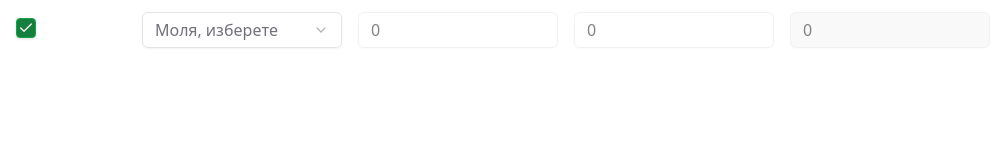
Test case: SeedCombinedRow › displays plant selection dropdown with correct options
The width and height of the screenshot is (1007, 160).
Click the dropdown. click: [242, 30]
box: 142,12 -> 342,48
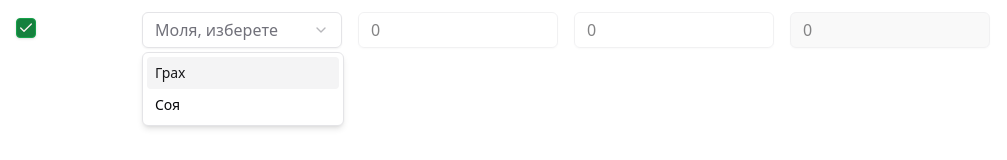
Expected: the text "Грах" is shown, 155,63 -> 186,83
Expected: the text "Соя" is shown, 155,95 -> 180,115
